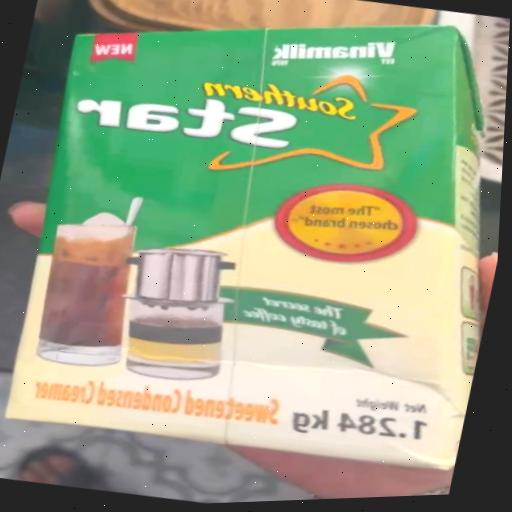ly_giay: (7, 26, 483, 469)
